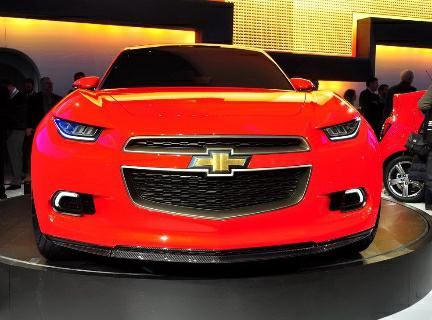雪佛兰-Code: (21, 43, 384, 269)
